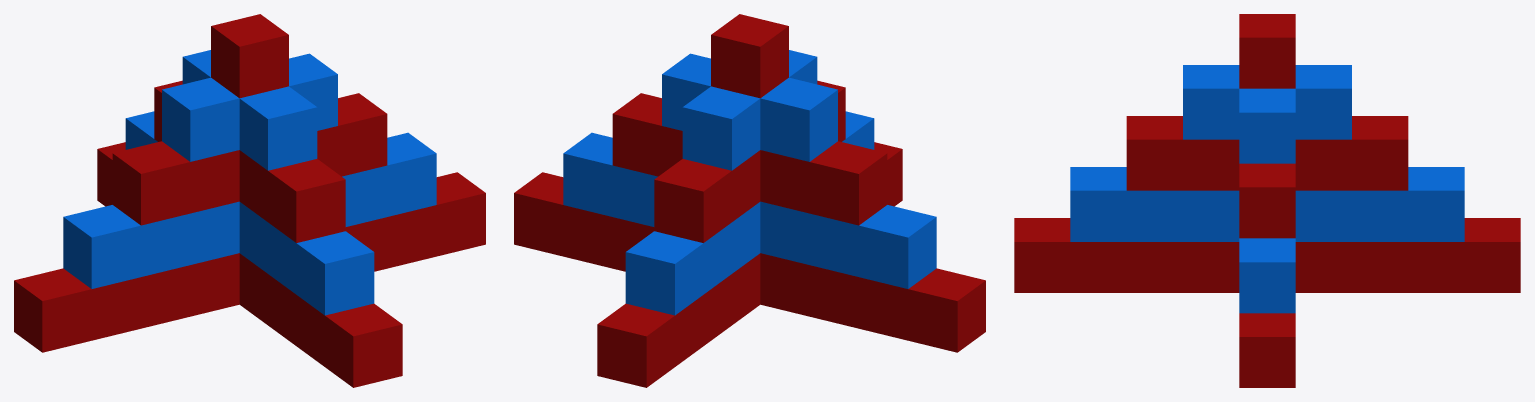
3 views of the same model, side by side, from view 1: azimuth 30°, elevation 25°; view 2: azimuth 150°, elevation 25°; view 3: azimuth 270°, elevation 25° (orthographic).
Parts seen in each view (by area): view 1: Matrix_6; view 2: Matrix_6; view 3: Matrix_6.
Part boxes in pixels (<box>): Matrix_6: <box>14,14,485,387</box>; Matrix_6: <box>514,14,985,387</box>; Matrix_6: <box>1014,14,1520,387</box>.
Bounding box in the file's own units: 9 × 5 × 9.
Materials: 1 (1 with a texture image).
